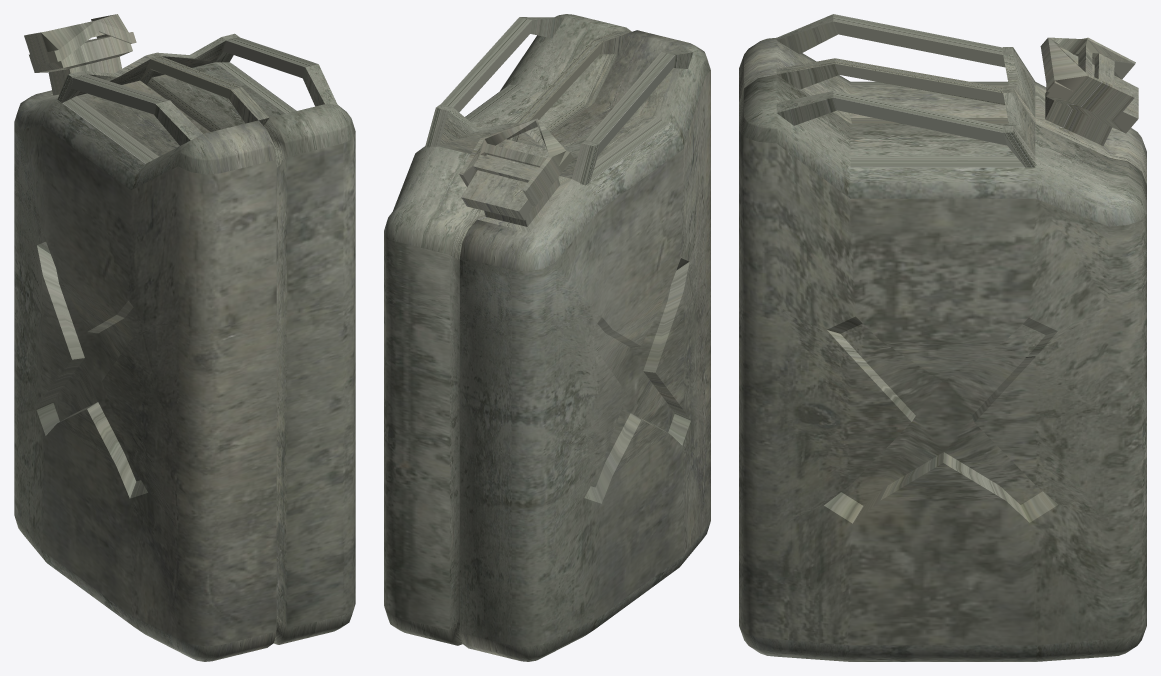
Rendered from jerrycan.FBX.
The picture shows the model from 3 angles, left to right: view 1: azimuth 30°, elevation 25°; view 2: azimuth 150°, elevation 25°; view 3: azimuth 270°, elevation 25°; orthographic projection. The views are drawn at different scales.
Parts seen in each view (by area): view 1: Jerrycan; view 2: Jerrycan; view 3: Jerrycan.
Part boxes in pixels (x1,y1,x2,y2): Jerrycan: (14,14,355,661); Jerrycan: (384,14,710,661); Jerrycan: (739,14,1146,661).
Size of the model in its own units: 49.32 by 130 by 84.55.
Materials: 1 (1 with a texture image).
